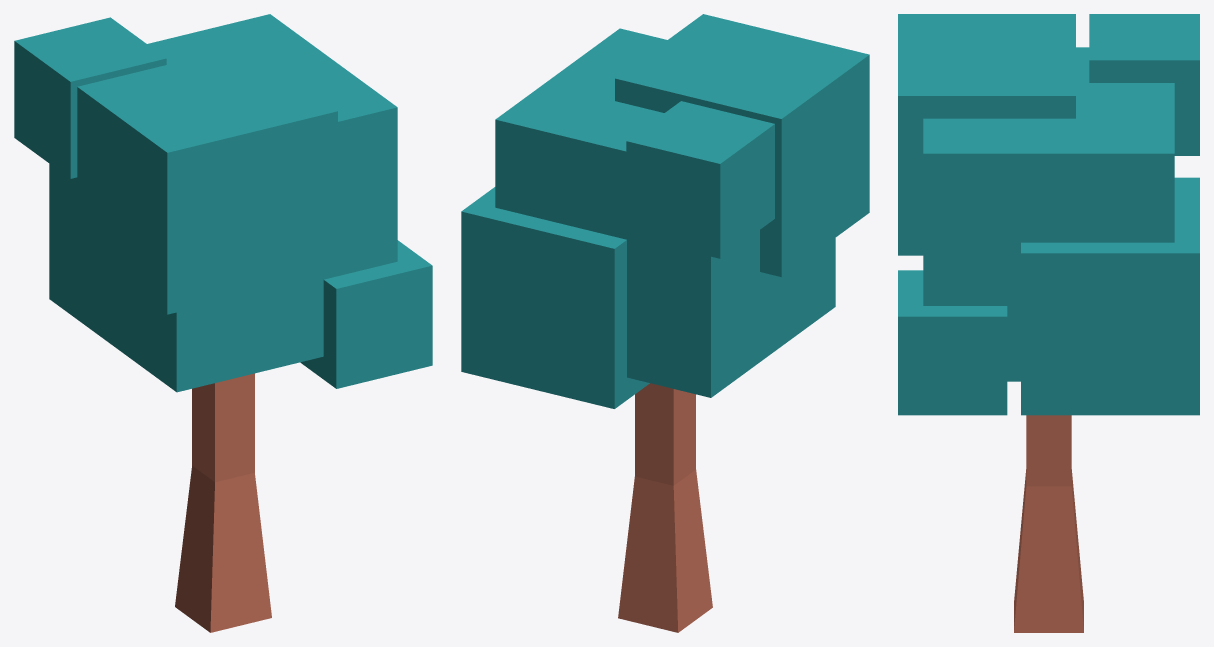
File: tree_blocks_dark.dae
3 renders of one model, left to right at view 1: azimuth 30°, elevation 25°; view 2: azimuth 150°, elevation 25°; view 3: azimuth 270°, elevation 25°, orthographic. The views are drawn at different scales.
Parts seen in each view (by area): view 1: tree_blocks_dark; view 2: tree_blocks_dark; view 3: tree_blocks_dark.
Part boxes in pixels (x1,y1,x2,y2): tree_blocks_dark: (14, 14, 432, 632); tree_blocks_dark: (461, 14, 869, 632); tree_blocks_dark: (898, 14, 1199, 632).
Size of the model in its own units: 0.6 by 1.18 by 0.6.
